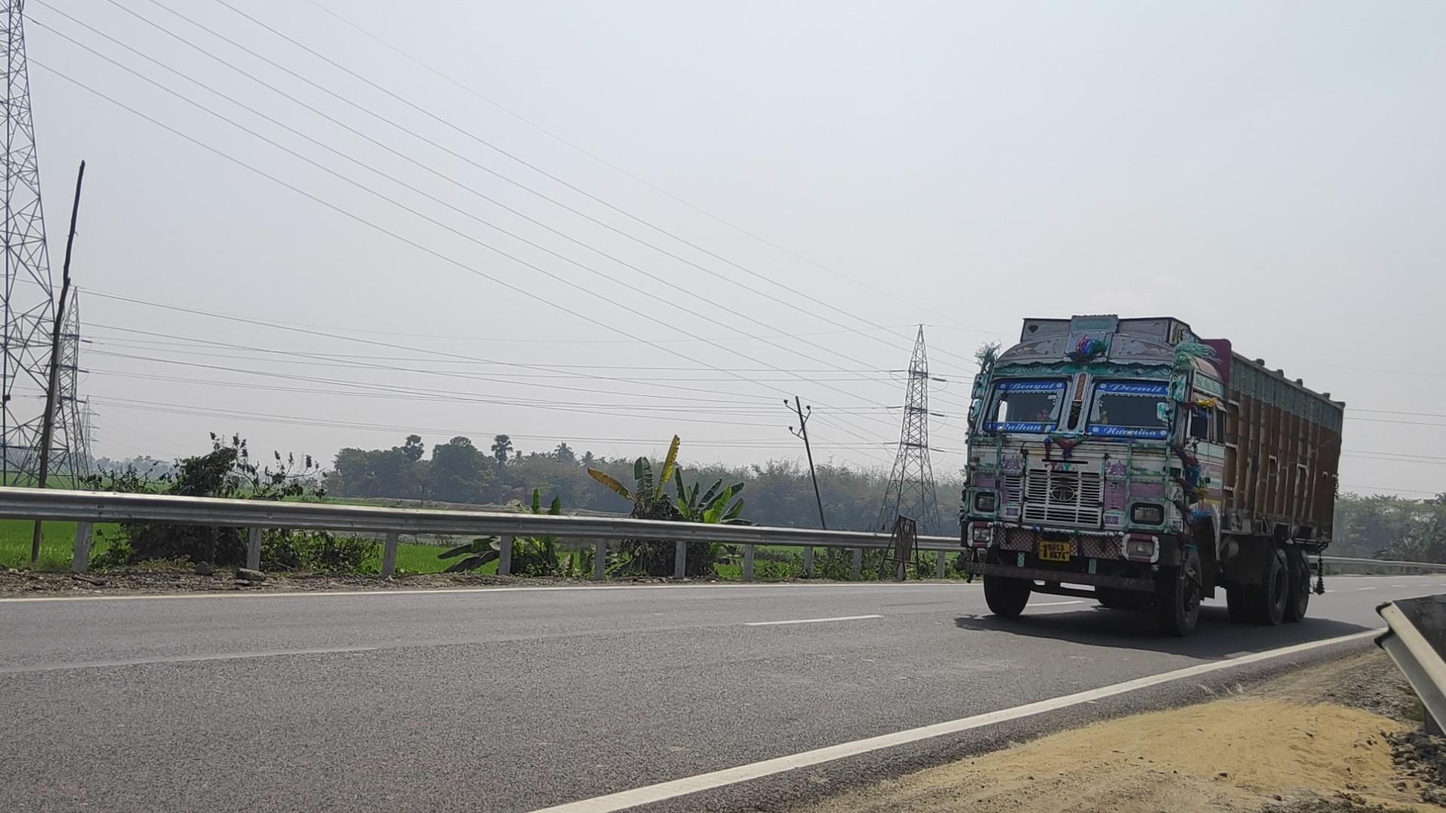truck: (958, 314, 1346, 637)
